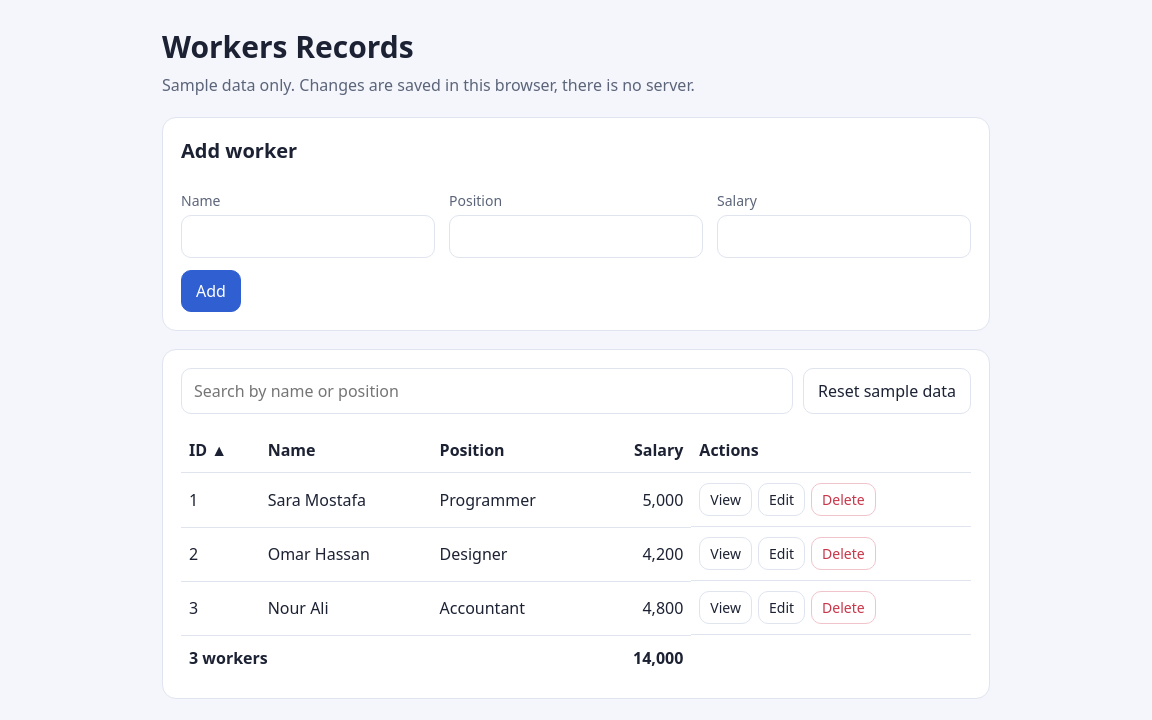
App › searches and shows the empty state
This screenshot has width=1152, height=720.
Type "designer" into the search field named "Search workers" at (487, 391), box [181,368,793,414]
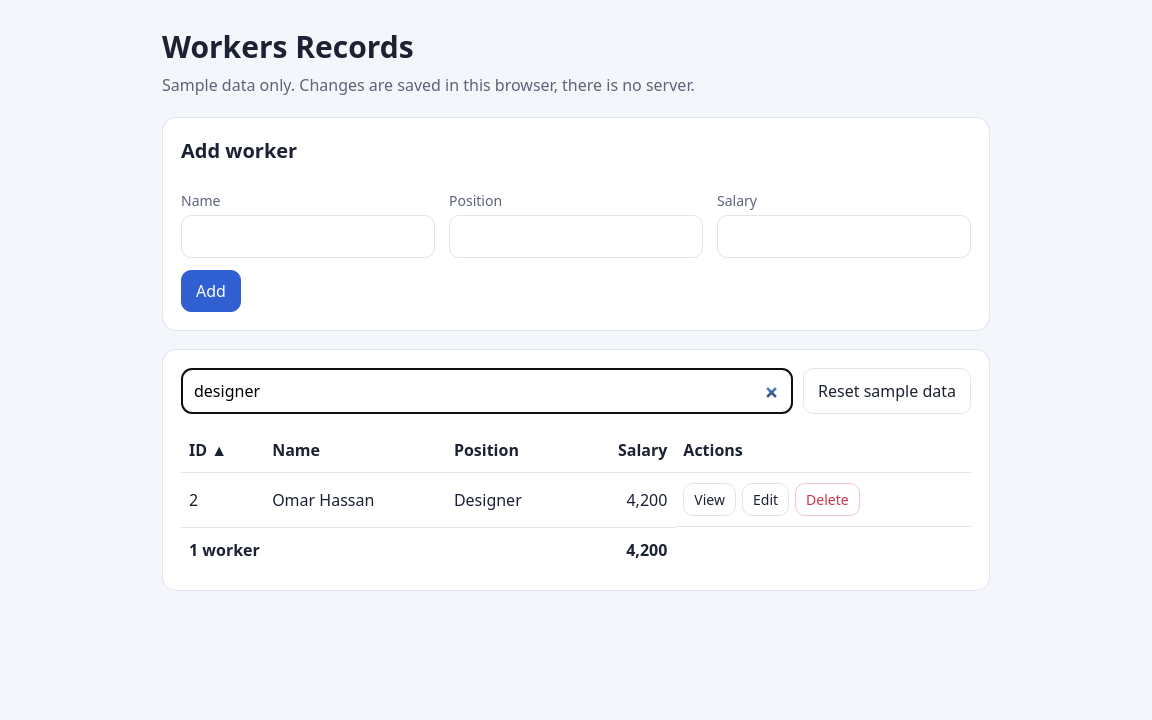
Check: the text "Omar Hassan" is shown, box [264,472,446,527]
Check: the text "Sara Mostafa" is gone
Replace the text in the search field named "Search workers" with "zzz" at (487, 391), box [181,368,793,414]
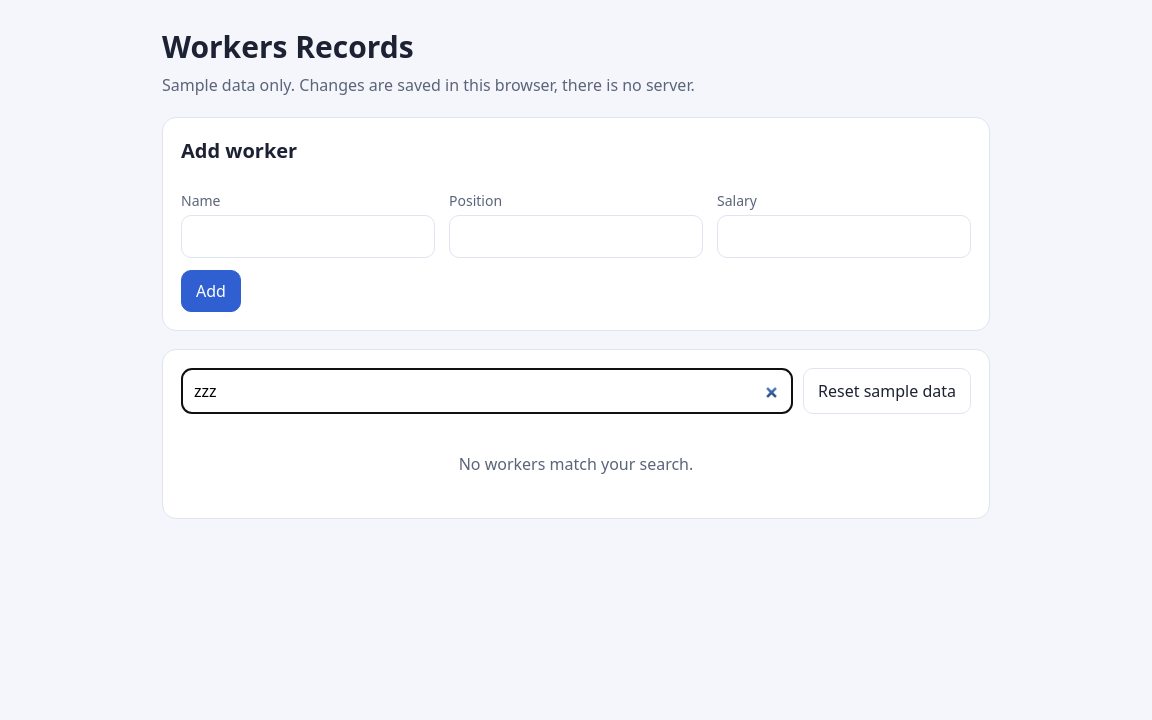
Check: the text "No workers match your search." is shown, box [459,453,693,475]
